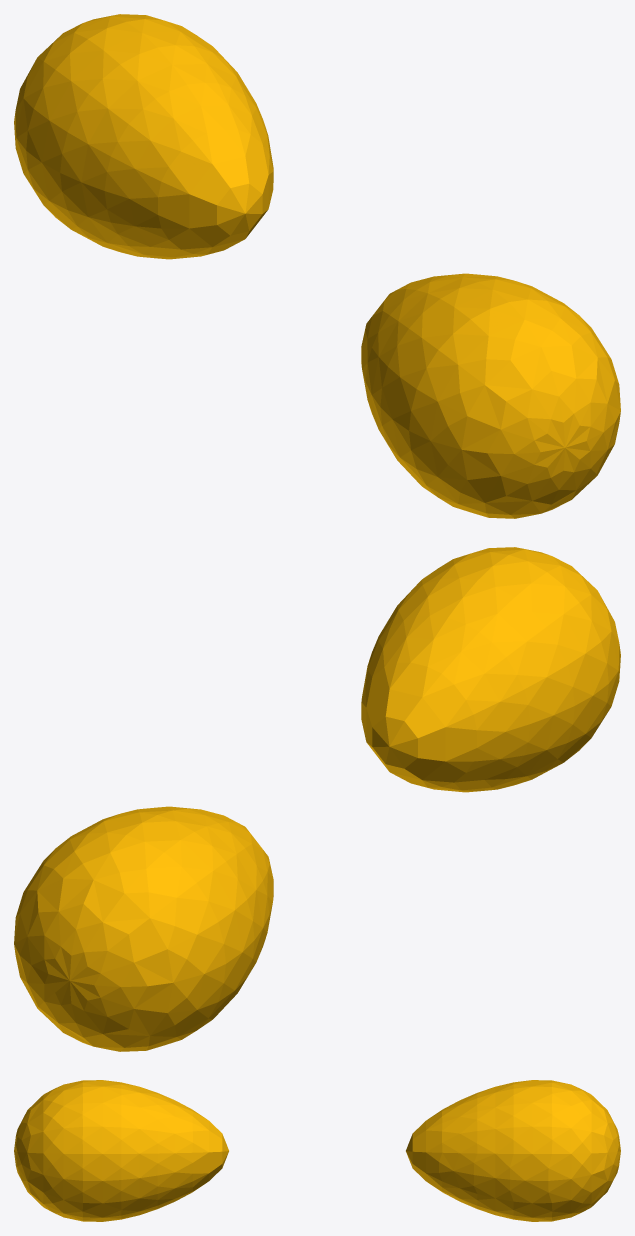
The picture shows the model from 3 angles, top to bottom: view 1: azimuth 30°, elevation 25°; view 2: azimuth 150°, elevation 25°; view 3: azimuth 270°, elevation 25°; orthographic projection. The views are drawn at different scales.
Bounding box in the file's own units: 8.63 × 8.63 × 36.89.
